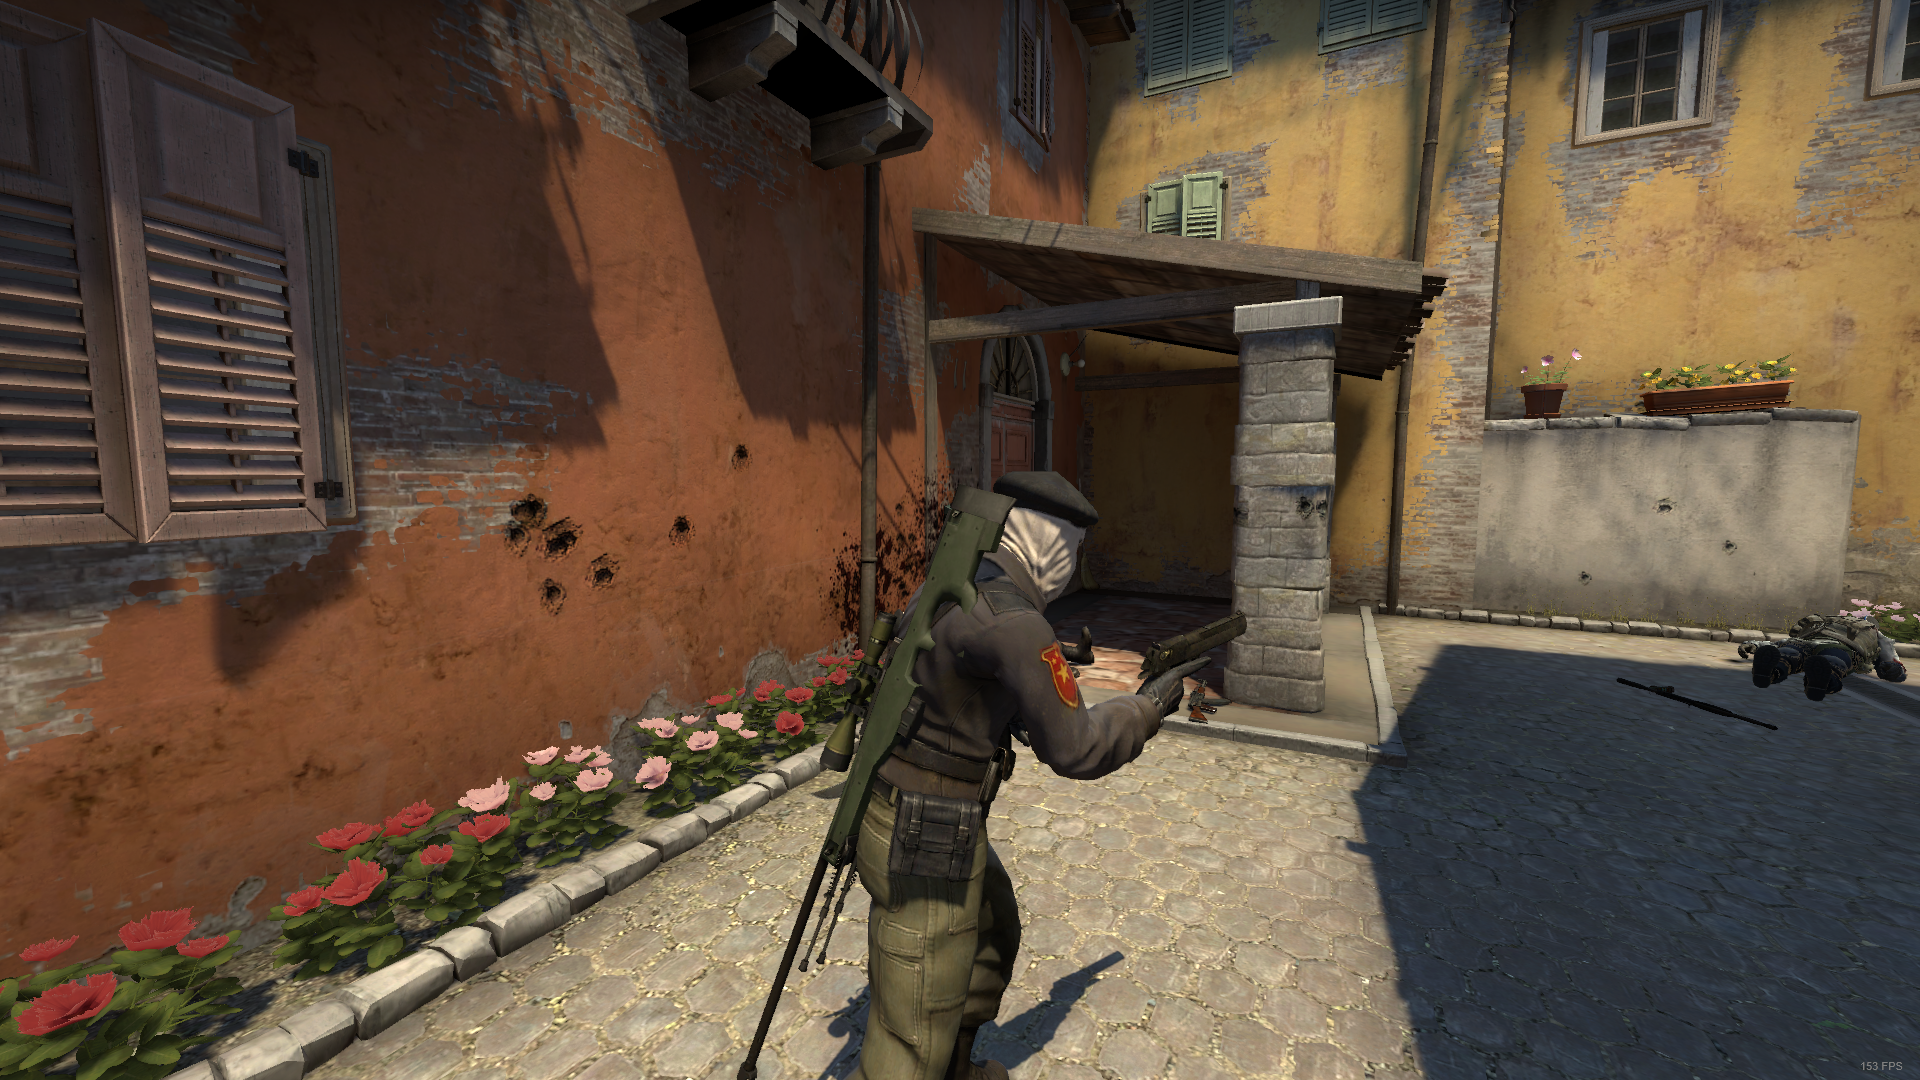t: (847, 471, 1211, 1080)
